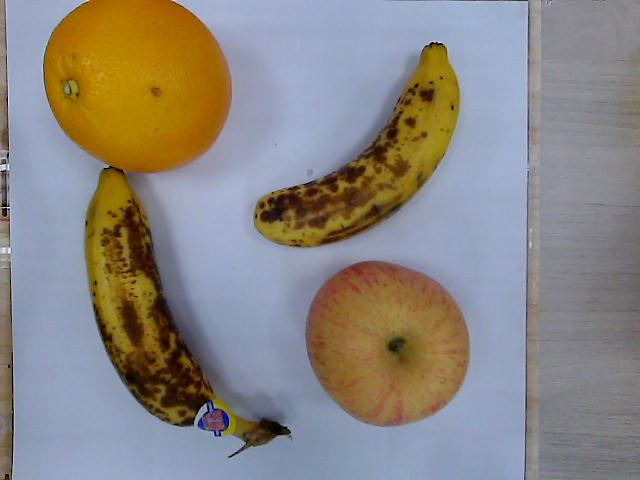fresh_apple: (306, 262, 471, 427)
fresh_orange: (44, 2, 233, 172)
rotten_banana: (86, 171, 292, 453), (254, 41, 460, 247)
